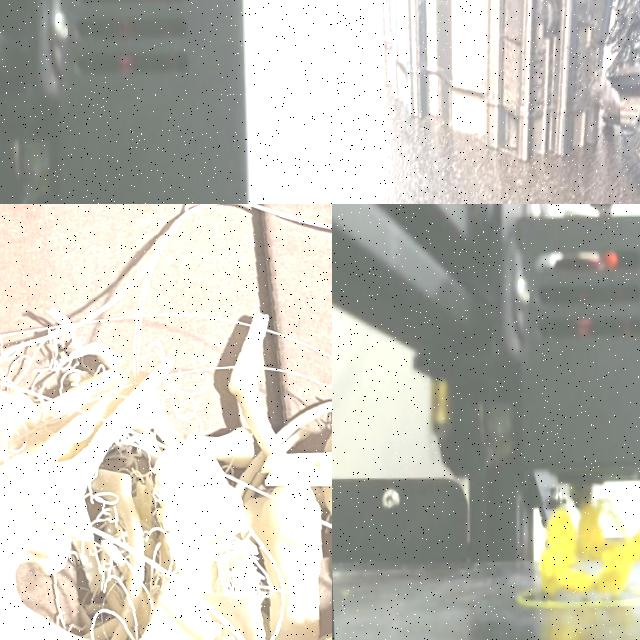spaghetti: (0, 204, 332, 640), (538, 492, 640, 608)
